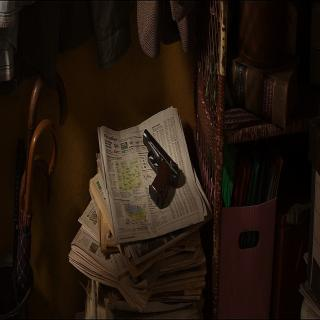gun: (138, 124, 184, 212)
